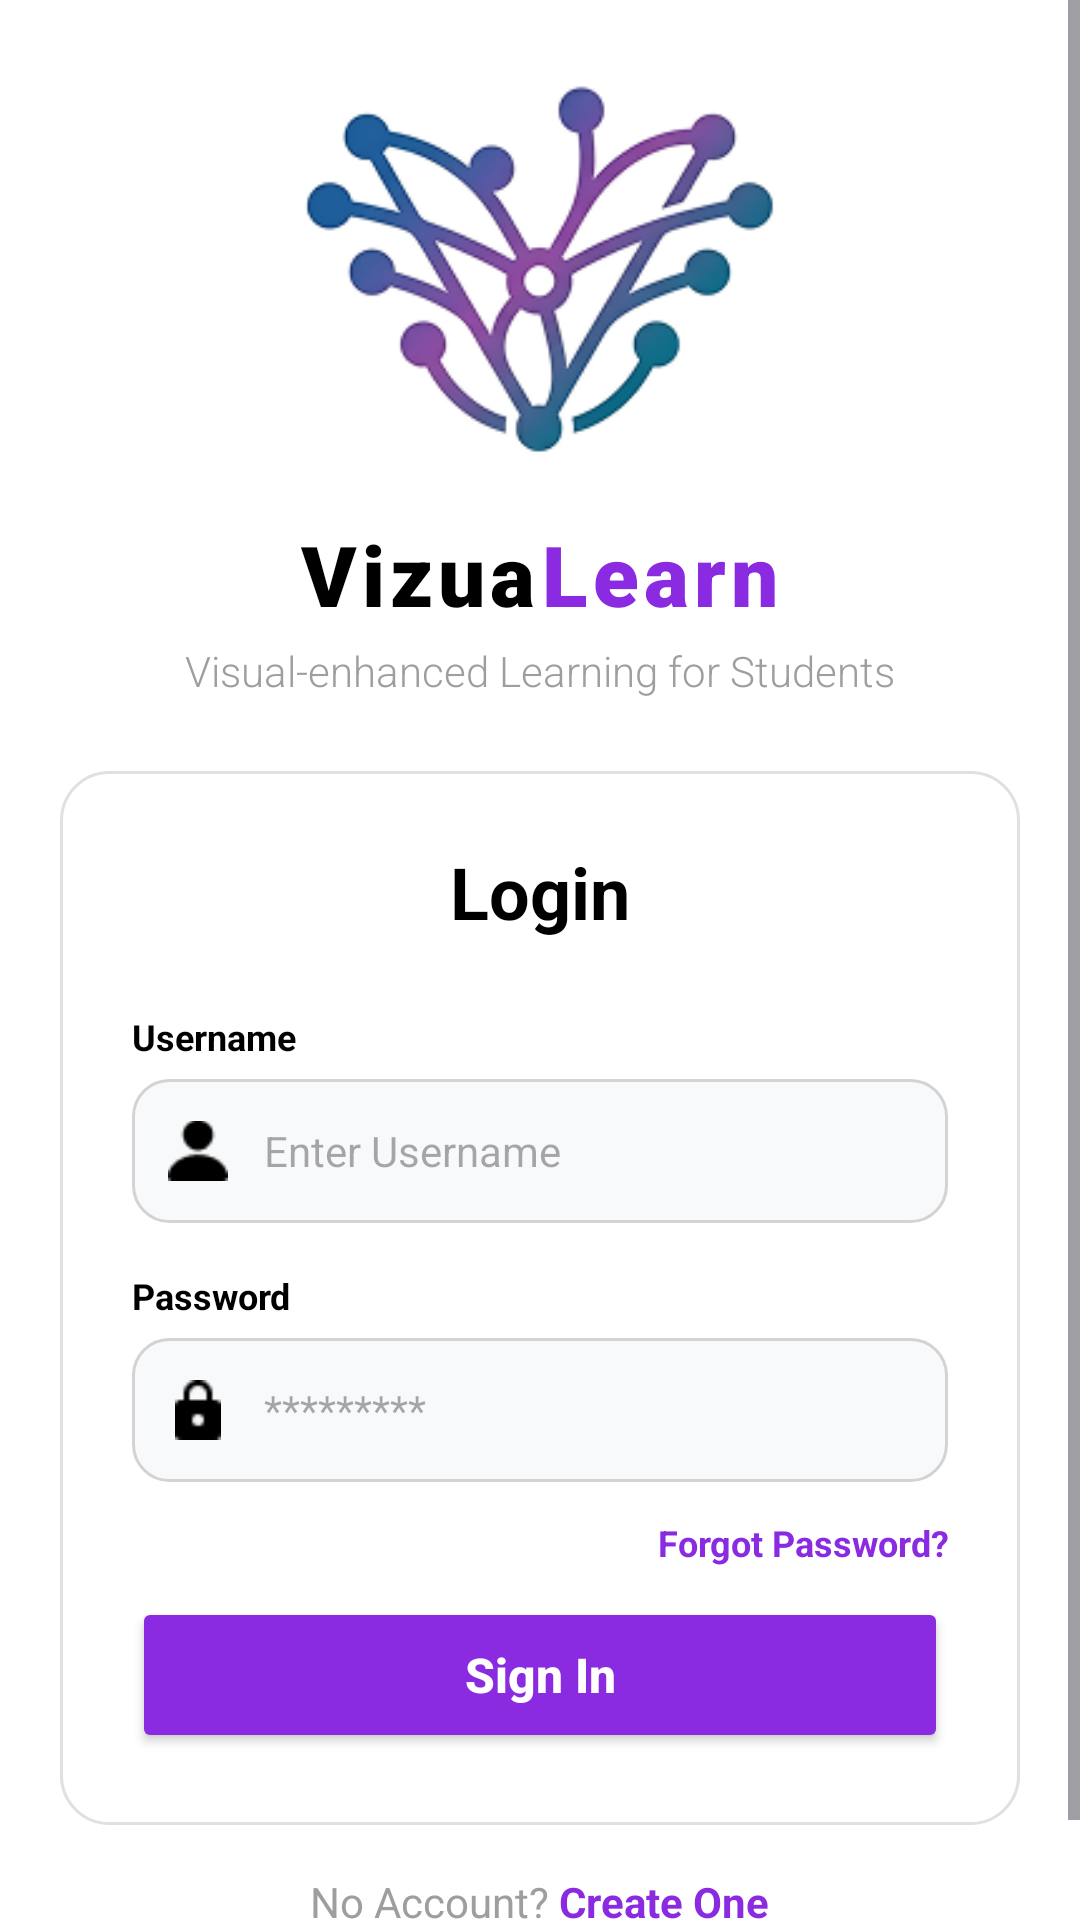

Icon bounding boxes for this 1080×1920 phone screenshot, format (x1, y1, x2, y2):
lock: (175, 1380, 221, 1440)
person: (168, 1121, 228, 1181)
